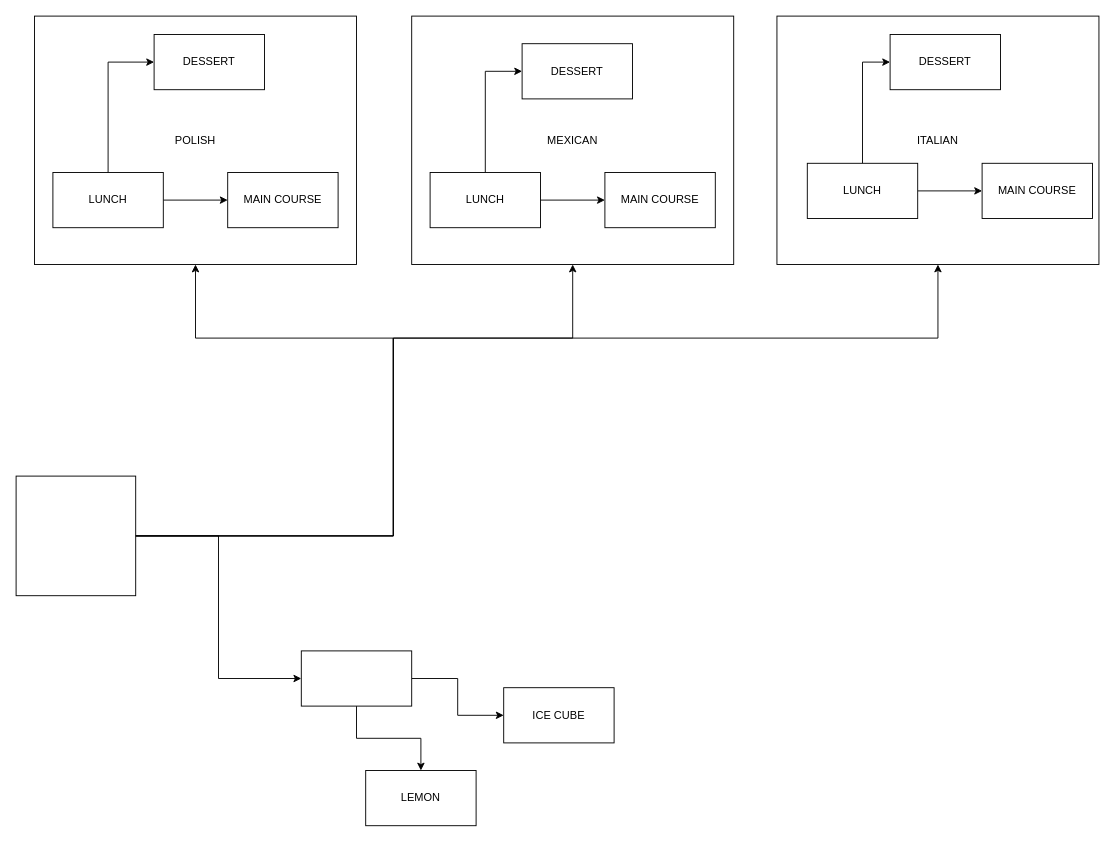
This 1115x842 diagram has some shape labels left out. Here are the shapes that lost their labels. From the top down, the box of each, then its label:
(15, 475, 136, 596): ORDER
(300, 650, 412, 706): DRINK
